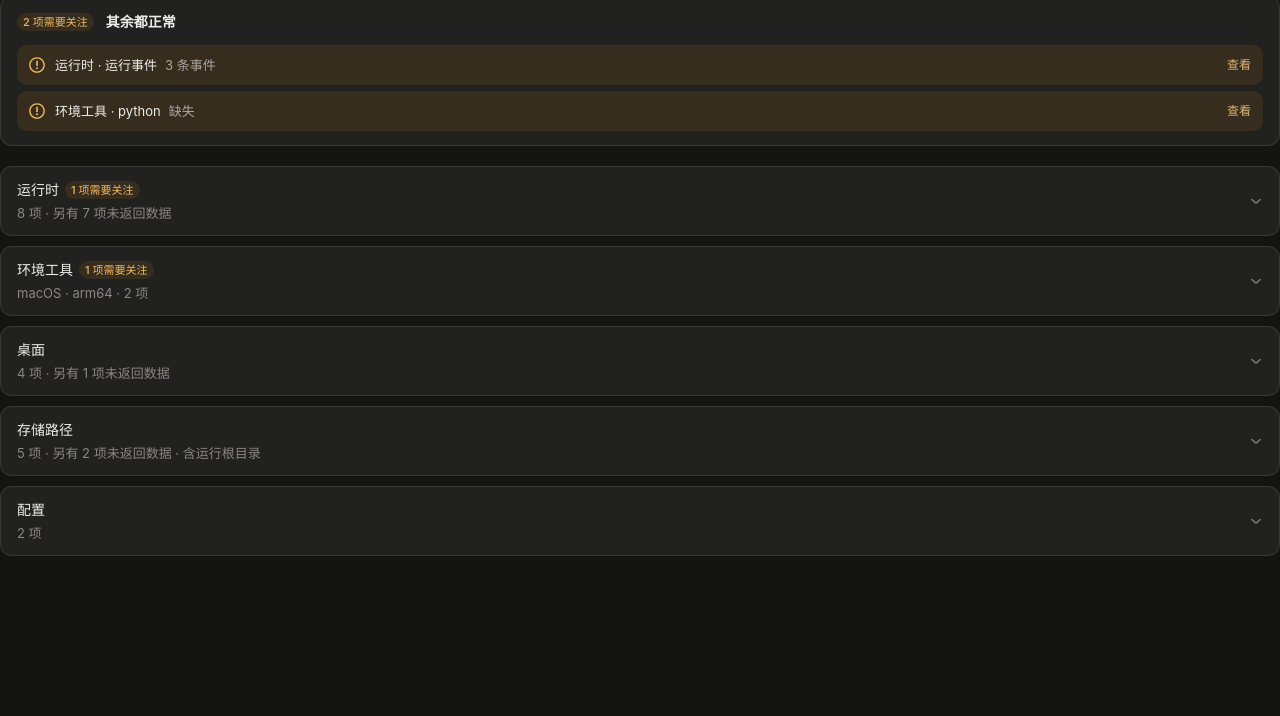
诊断 › shows a normal row as its value, and says why on a row that needs attention
The image size is (1280, 716).
Click the button with class "head-text" showing "运行时 1 项需要关注 8 项 · 另有 7 项未返回数据" at (38, 190), box [17,179,1237,223]
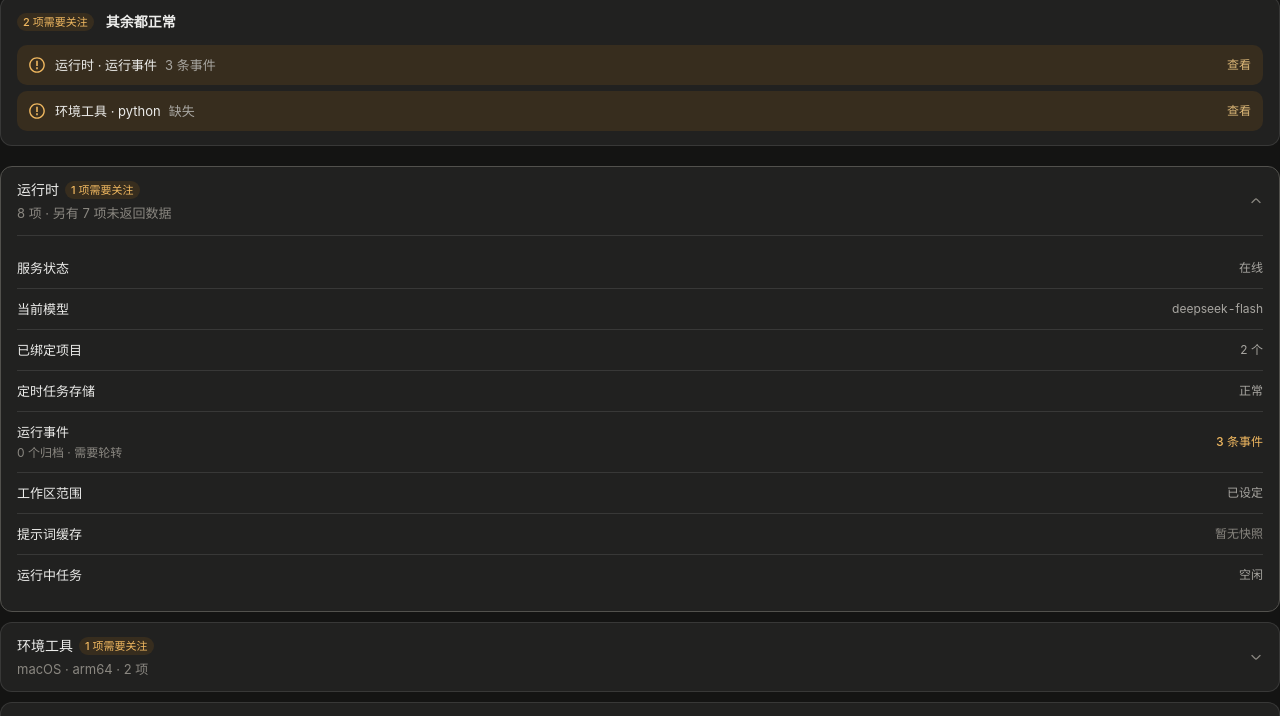
Result: the text "正常" is shown at [1239,382,1263,400]
Result: the element with class "description" shows "需要轮转" at [17,445,122,460]
Click the 2nd button with class "head-text" at (45, 646), box [17,635,1237,679]
(page scrolled)
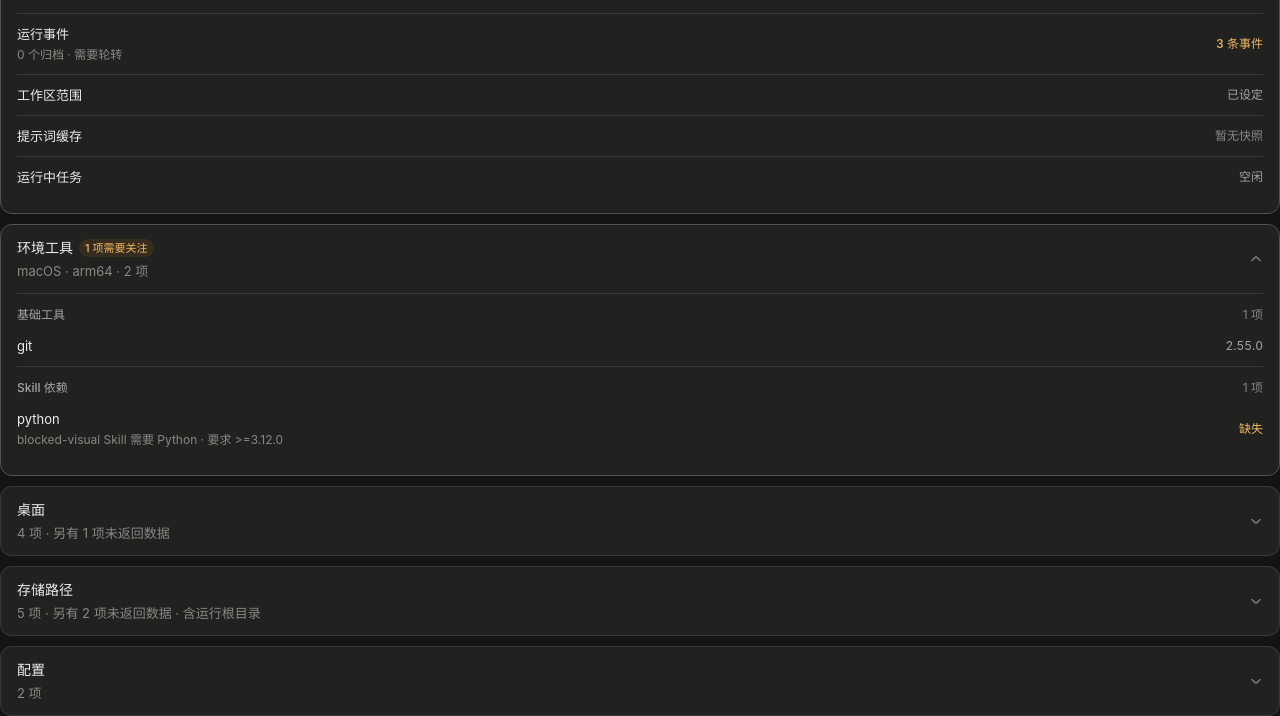
Result: the text "2.55.0" is shown at [1225,337,1263,355]
Result: the element with class "description" shows "blocked-visual Skill 需要 Python" at [17,432,283,447]
